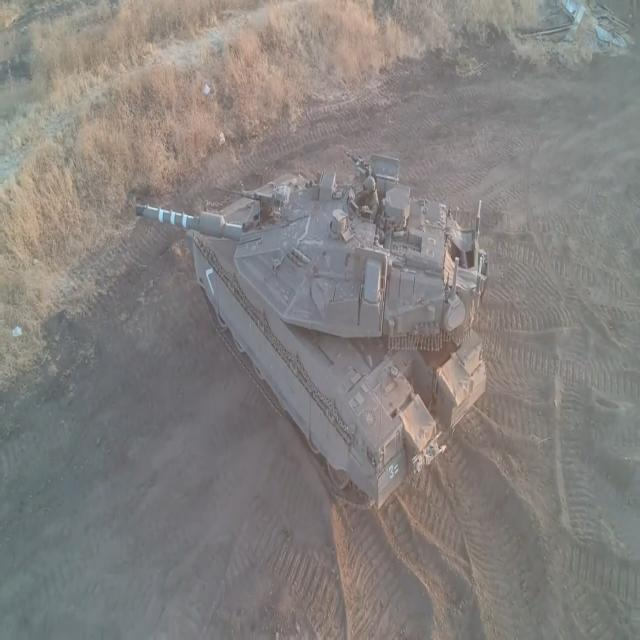tank: (130, 160, 493, 516)
